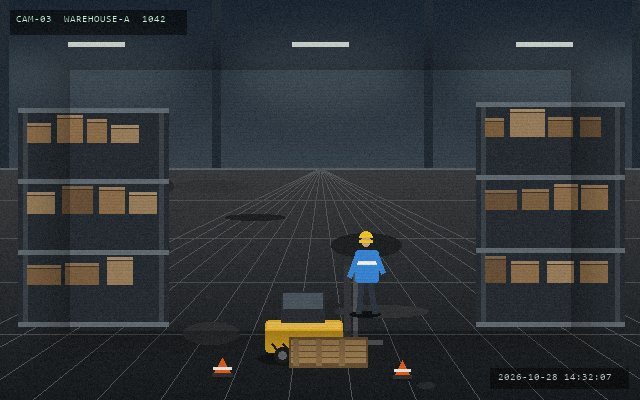cone: (211, 356, 233, 379), (392, 358, 412, 381)
forklift: (261, 264, 384, 366)
pallet: (287, 335, 369, 369)
person: (348, 229, 385, 316)
shelf: (476, 102, 624, 322), (18, 108, 168, 322)
